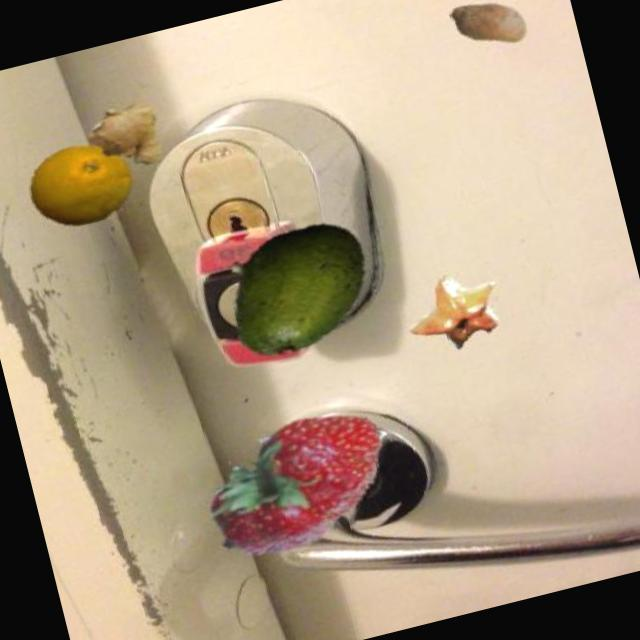Orange: (18, 132, 144, 236)
Strawberry: (175, 380, 412, 580)
